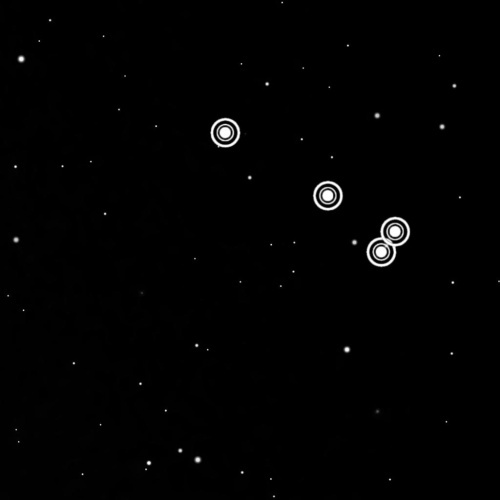sagitta: (205, 108, 414, 272)
